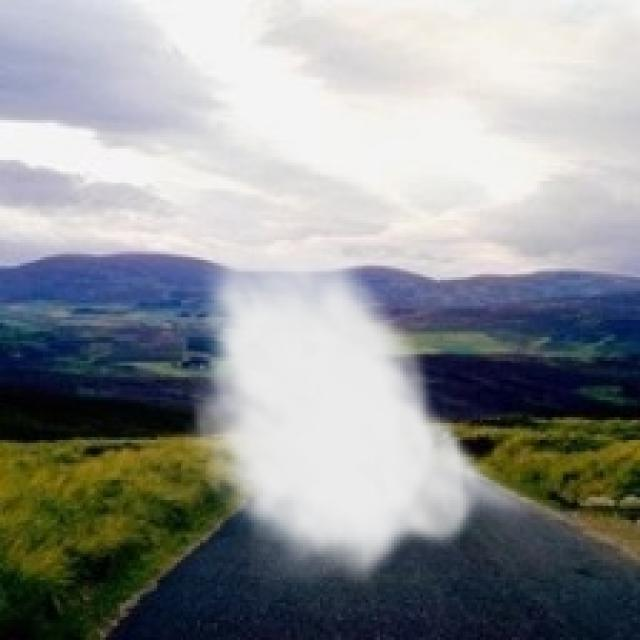smoke: (183, 220, 543, 591)
